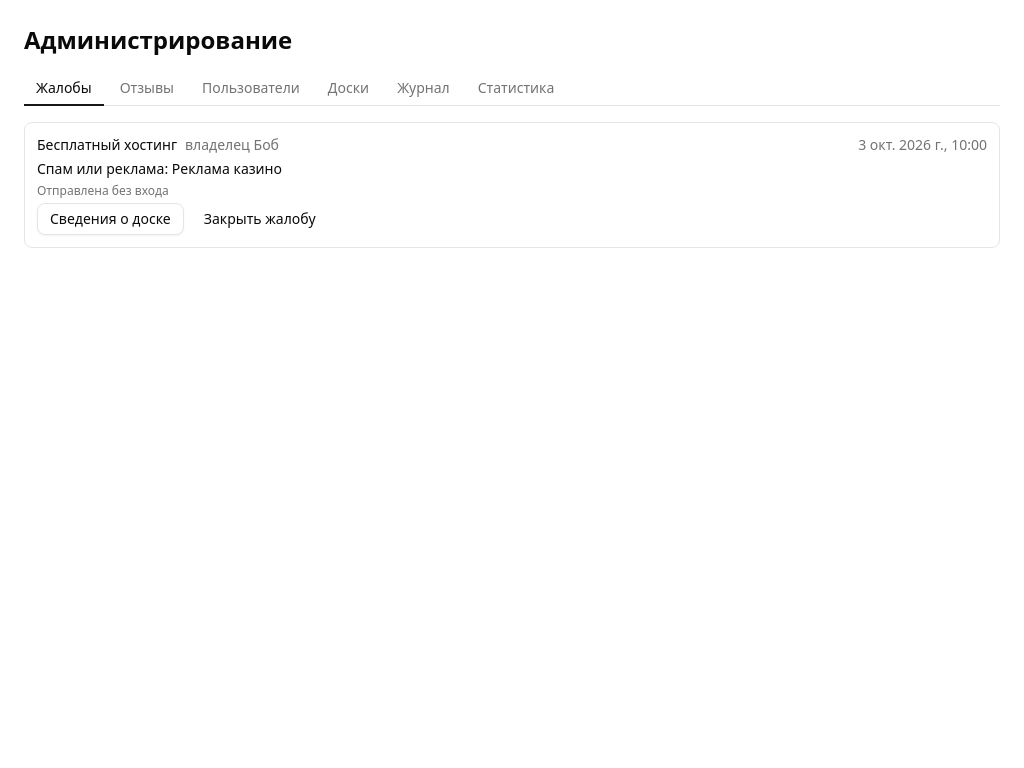
Test: AdminPage › finds a user and blocks them once the administrator confirms it
The image size is (1024, 768).
Click the tab "Пользователи" at coordinates (251, 89), box left=190, top=72, right=312, bottom=106
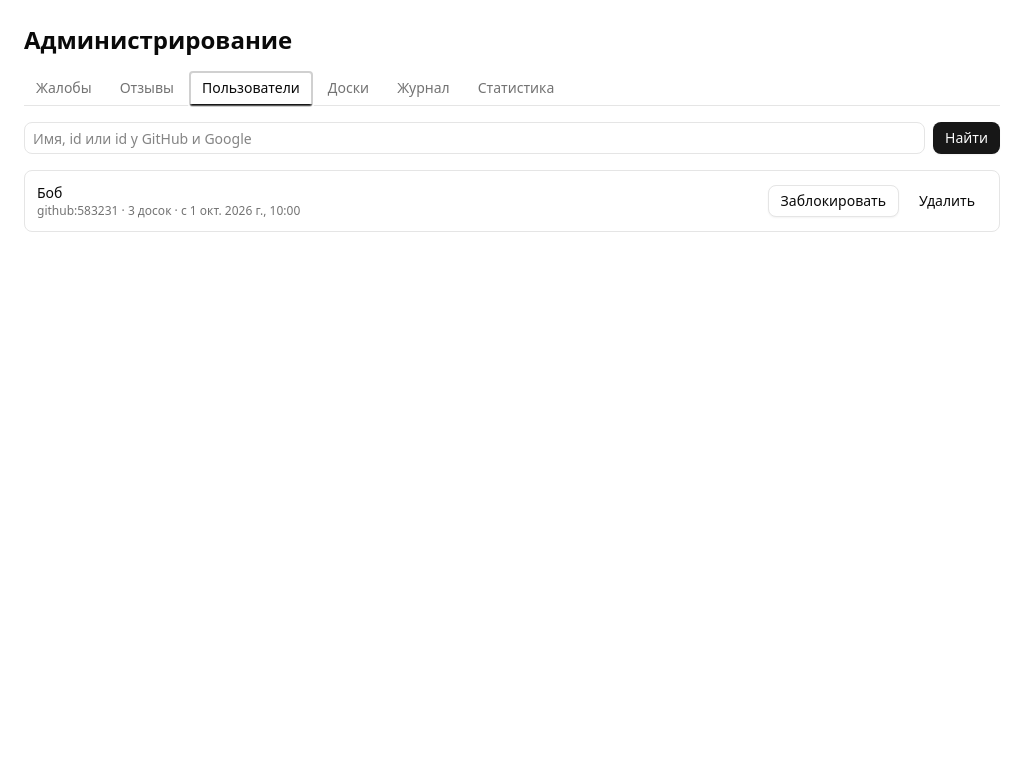
Type "боб" into the field labelled "Имя, id или id у GitHub и Google" at coordinates (475, 138), box left=24, top=122, right=925, bottom=154
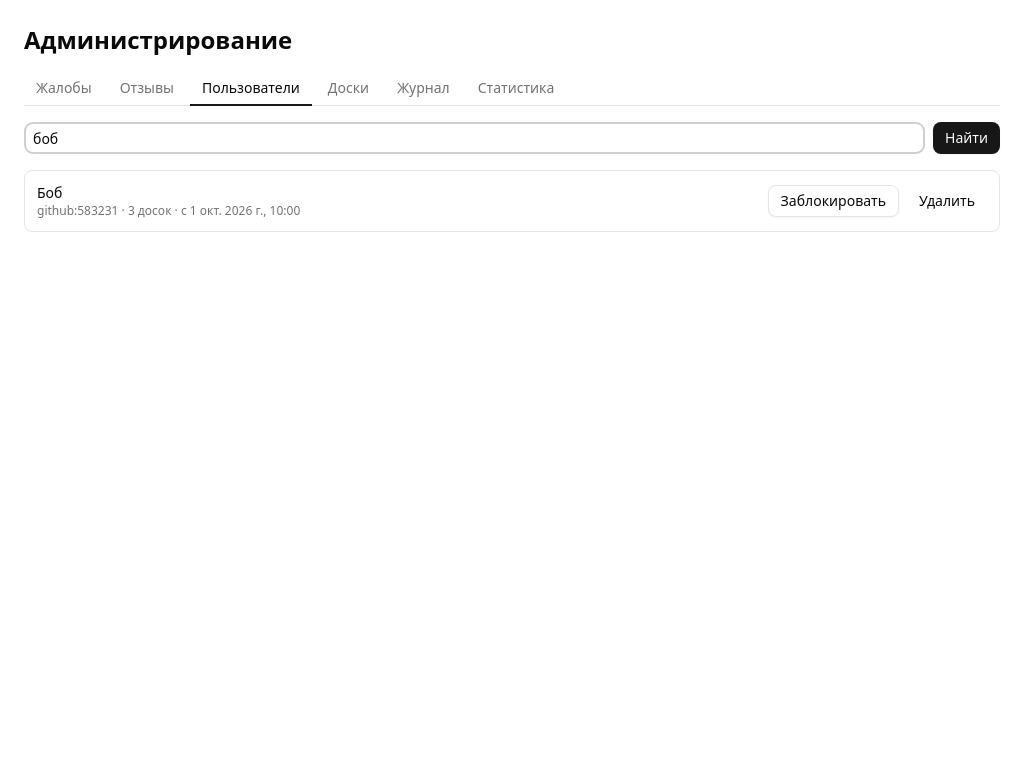
Click the button "Найти" at coordinates (967, 138), box left=933, top=122, right=1000, bottom=154
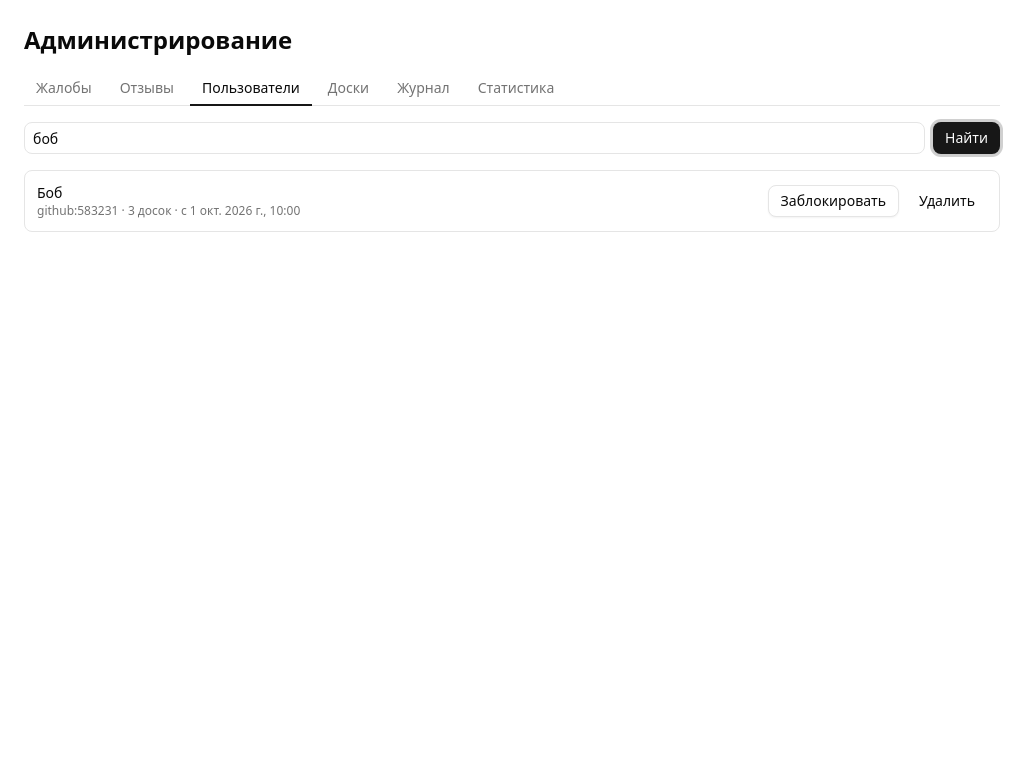
Expected: the list named "Пользователи" shows "github:583231 · 3 досок", left=24, top=170, right=1000, bottom=232
Click the button "Заблокировать" at coordinates (833, 201), box left=768, top=185, right=899, bottom=217
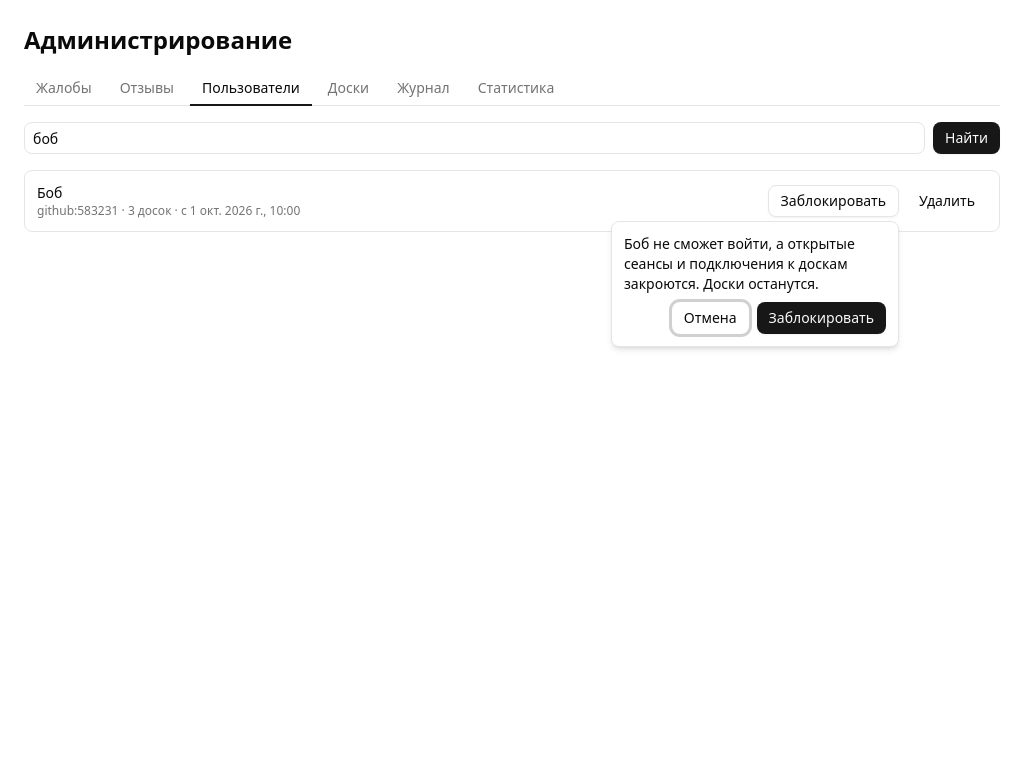
Click the 2nd button "Заблокировать" at coordinates (821, 318), box left=757, top=302, right=886, bottom=334
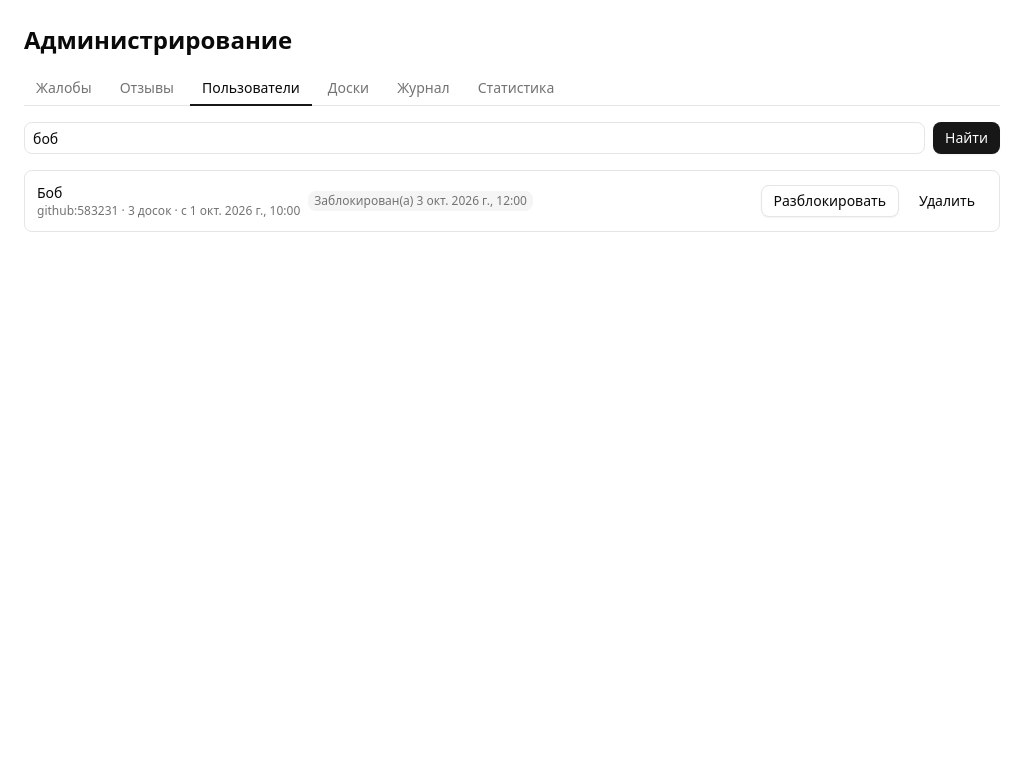
Expected: the text "Заблокирован(а) 3 окт. 2026 г., 12:00" is shown, left=308, top=191, right=533, bottom=211
Expected: the button "Разблокировать" is shown, left=760, top=185, right=899, bottom=217
